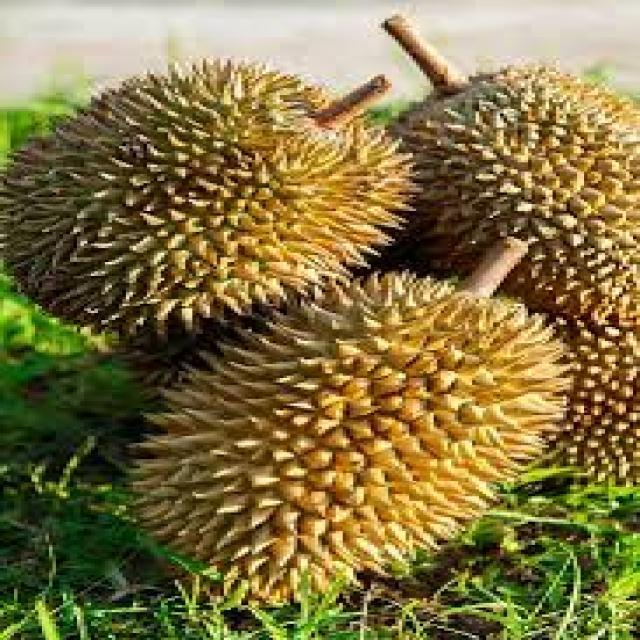mature: (140, 272, 564, 602), (2, 60, 413, 356), (383, 66, 637, 327)
